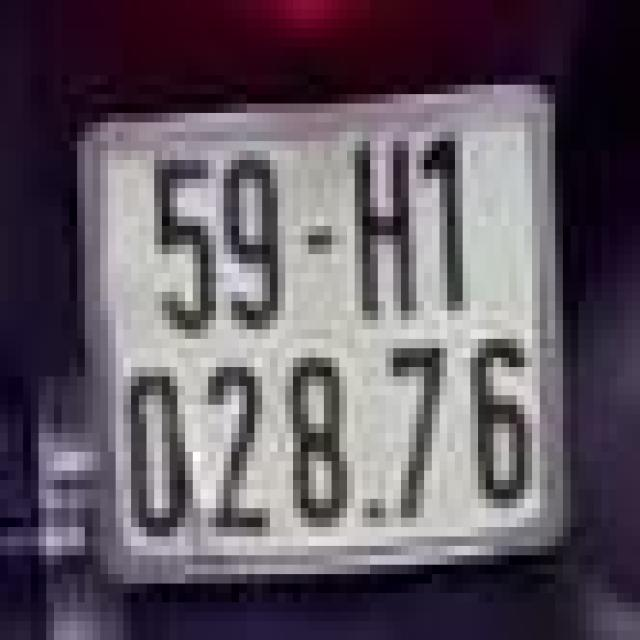0: (108, 353, 193, 541)
1: (420, 127, 490, 334)
2: (200, 358, 270, 536)
5: (138, 150, 224, 338)
6: (462, 330, 540, 508)
7: (382, 334, 451, 532)
8: (274, 348, 358, 536)
9: (224, 151, 293, 348)
H: (343, 123, 420, 330)
